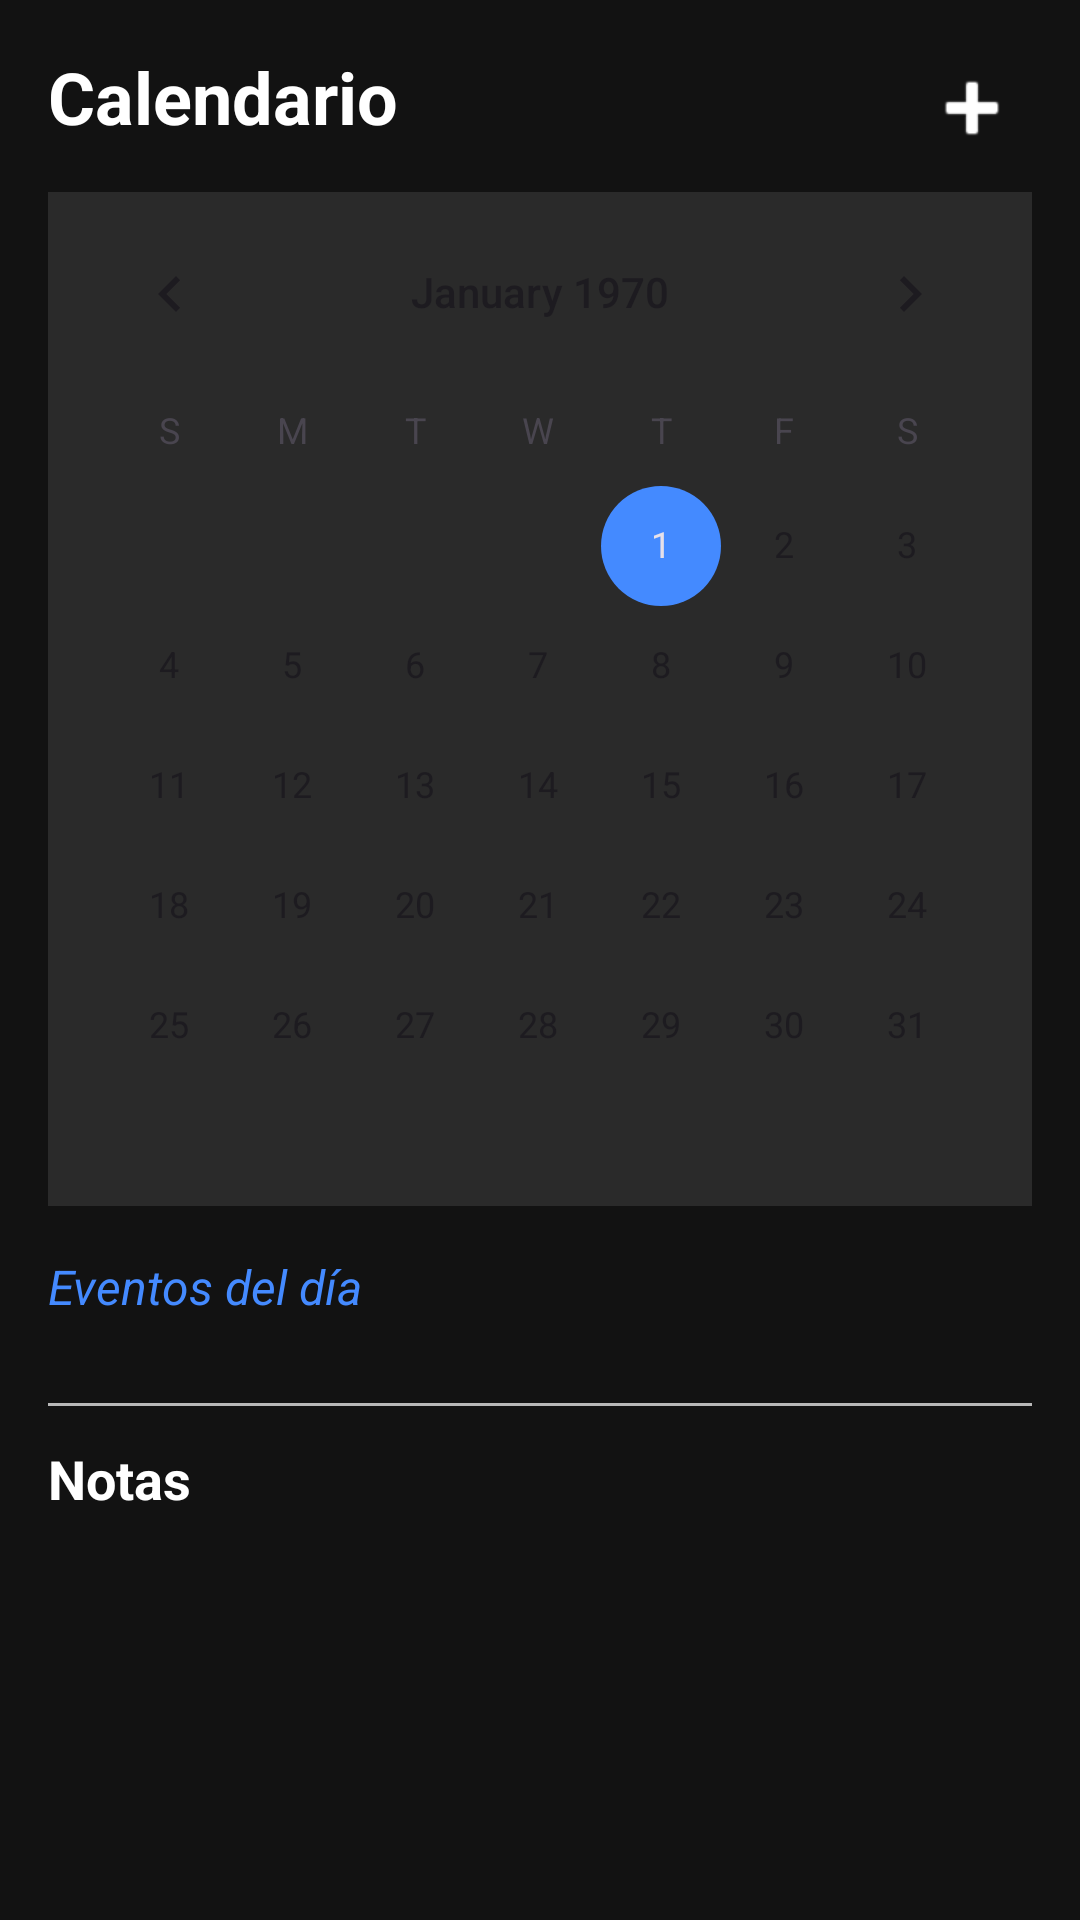

Icons on this 1080px×1920px Android screen, each with the point to tap as (x=x, y=y):
Añadir: (x=972, y=108)
